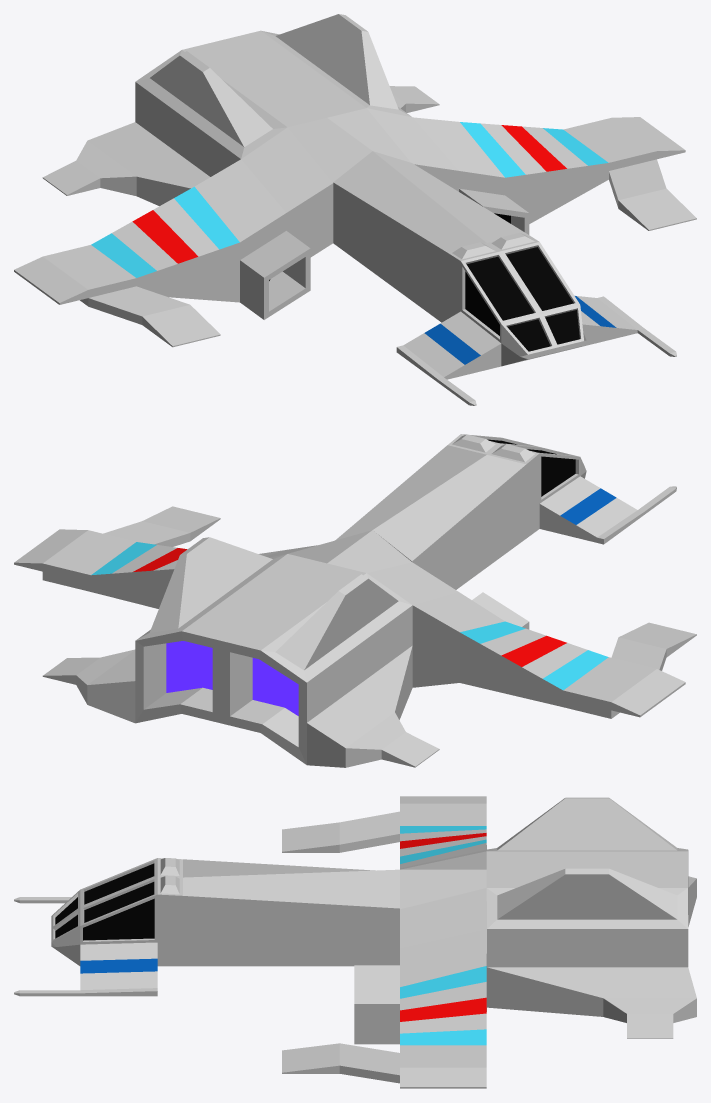
The model's file is ship 7.glb.
3 views of the same model, one above another, from view 1: azimuth 30°, elevation 25°; view 2: azimuth 150°, elevation 25°; view 3: azimuth 270°, elevation 25° (orthographic). The views are drawn at different scales.
Parts seen in each view (by area): view 1: Cube; view 2: Cube; view 3: Cube.
Boxes of the visible parts, <box> form: Cube: <box>14,14,696,405</box>; Cube: <box>14,434,696,767</box>; Cube: <box>14,796,696,1088</box>.
Size of the model in its own units: 15.87 by 3.81 by 15.77.
1 material, 1 textured.
